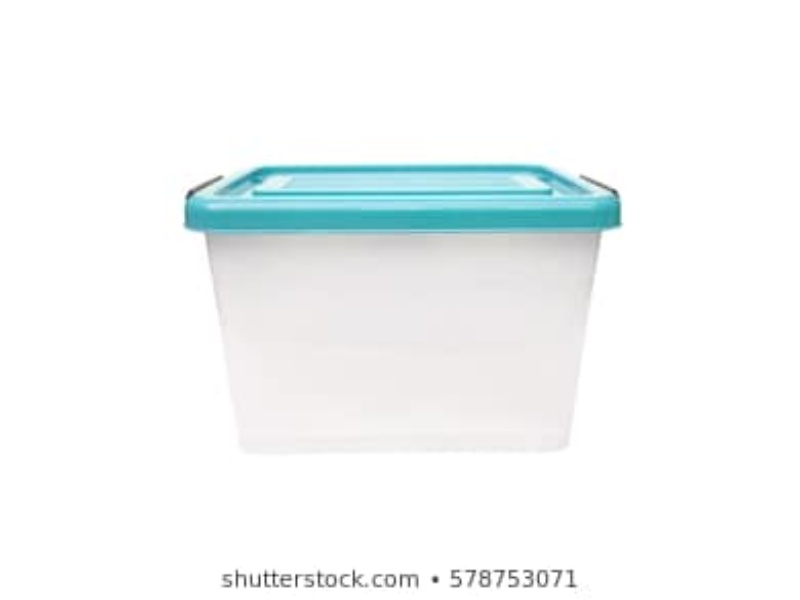plastic-container: (176, 157, 618, 461)
